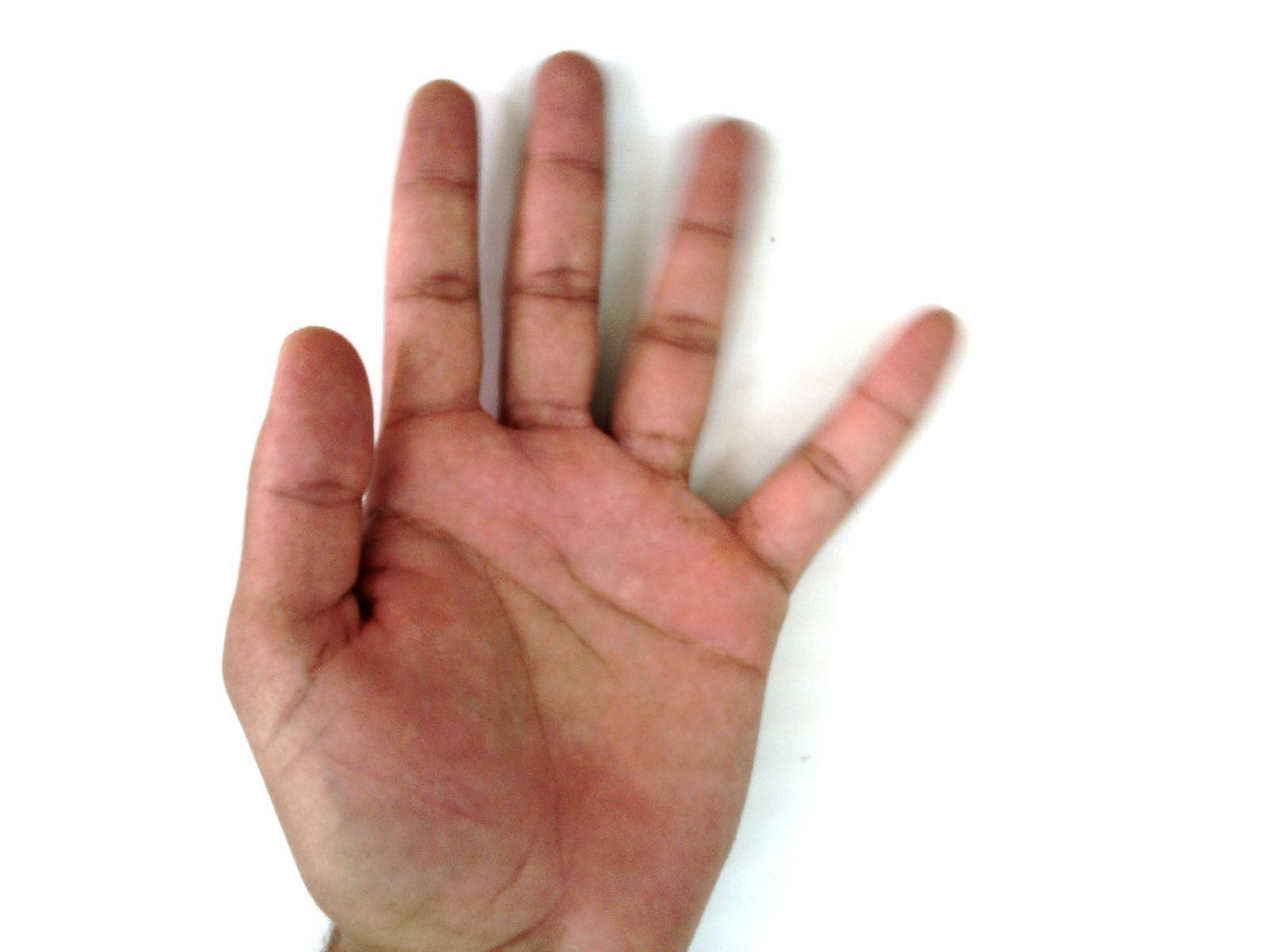open_palm: (219, 50, 968, 950)
